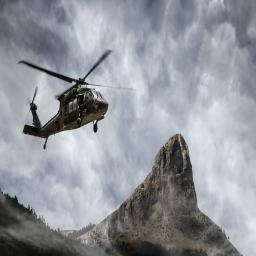helicopter: (16, 43, 137, 156)
